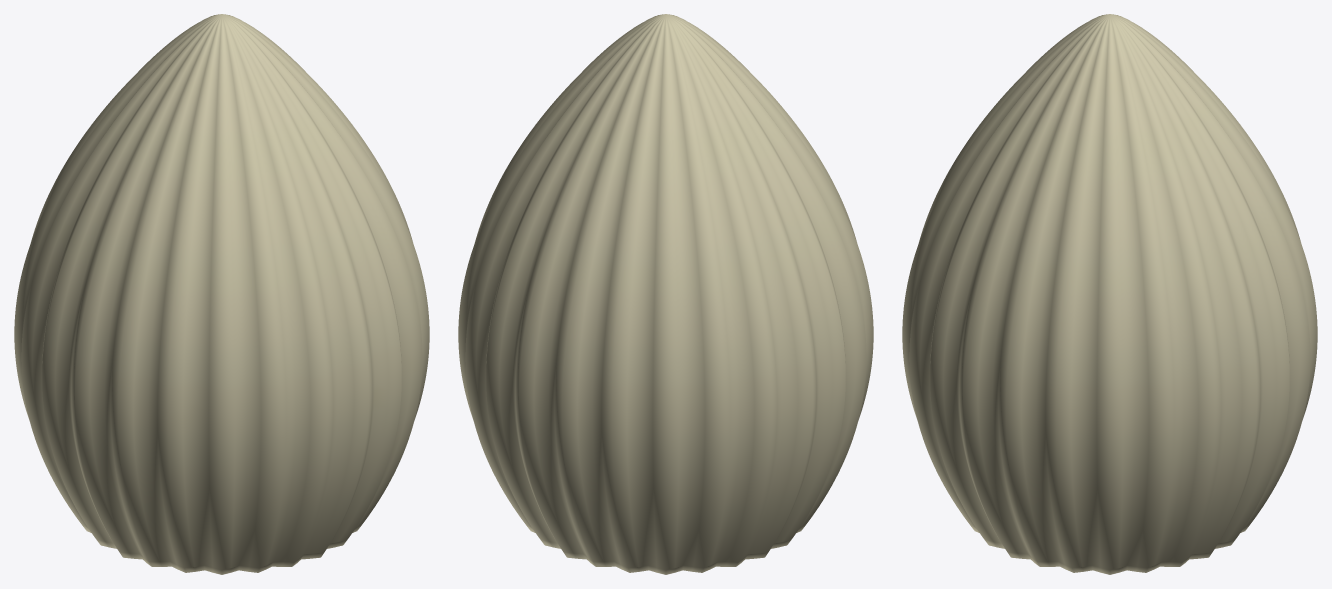
Rendered from monarch_egg_hybrid.glb.
3 views of the same model, side by side, from view 1: azimuth 30°, elevation 25°; view 2: azimuth 150°, elevation 25°; view 3: azimuth 270°, elevation 25° (orthographic).
Parts seen in each view (by area): view 1: EggRidgedShell; view 2: EggRidgedShell; view 3: EggRidgedShell.
Boxes of the visible parts, x1,y1,x2,y2 form: EggRidgedShell: (14, 14, 429, 574); EggRidgedShell: (458, 14, 873, 574); EggRidgedShell: (902, 14, 1317, 574).
Size of the model in its own units: 0.0009 by 0.0012 by 0.0009.
